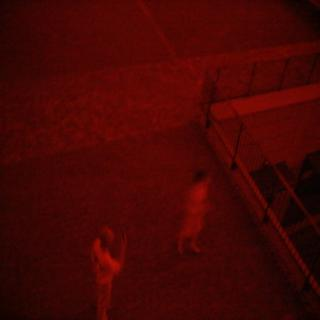person: (83, 221, 136, 320), (174, 162, 216, 265)
